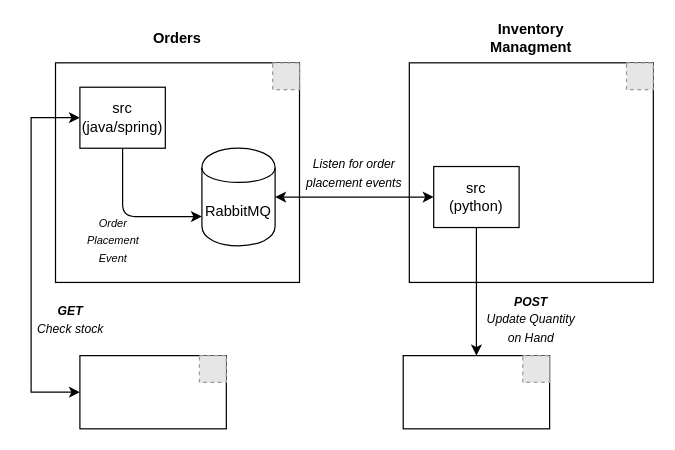
Image size: 675x450. Some labels were removed from this diagram. Grey dashed boxes stand in for pictures. The box of each missing label's shape, as (x1, y1, x2, y2) in pixels:
Catalog API: (79, 354, 226, 429)
Inventory API: (402, 354, 550, 429)
